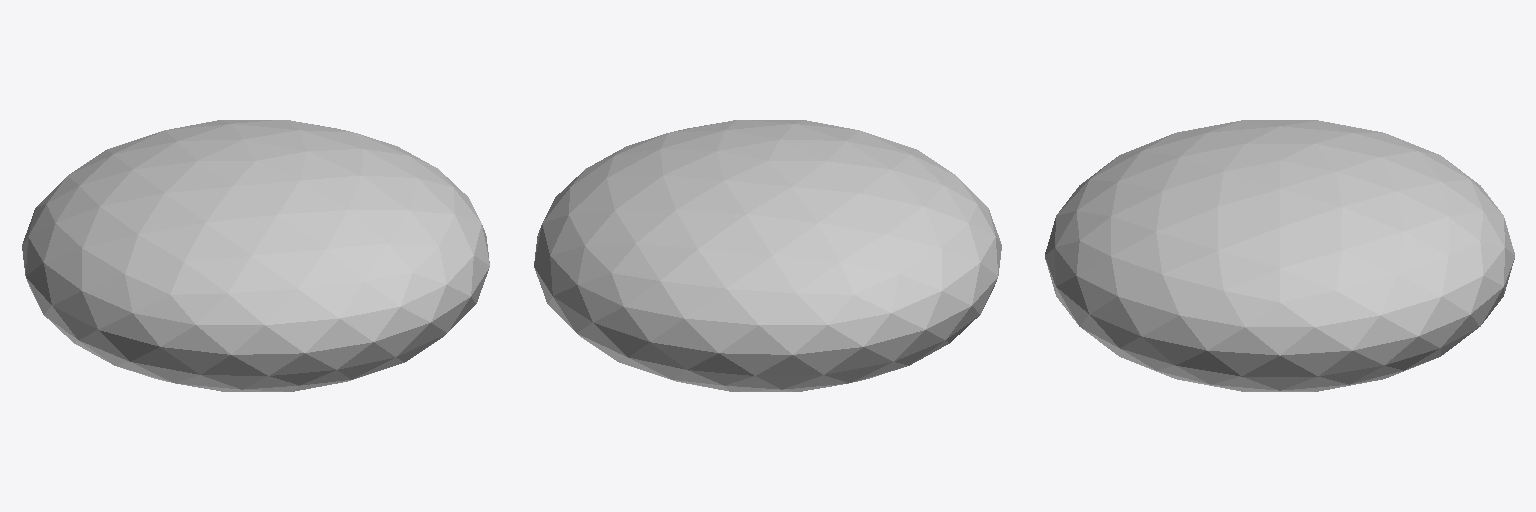
Rendered from stone2.obj.
3 views of the same model, side by side, from view 1: azimuth 30°, elevation 25°; view 2: azimuth 150°, elevation 25°; view 3: azimuth 270°, elevation 25° (orthographic).
Visible parts, largest first — view 1: Icosphere; view 2: Icosphere; view 3: Icosphere.
Part boxes in pixels (left/top/right/bottom): Icosphere: left=22, top=120, right=489, bottom=391; Icosphere: left=534, top=120, right=1001, bottom=391; Icosphere: left=1045, top=120, right=1514, bottom=391.
Size of the model in its own units: 0.0464 by 0.0207 by 0.0464.